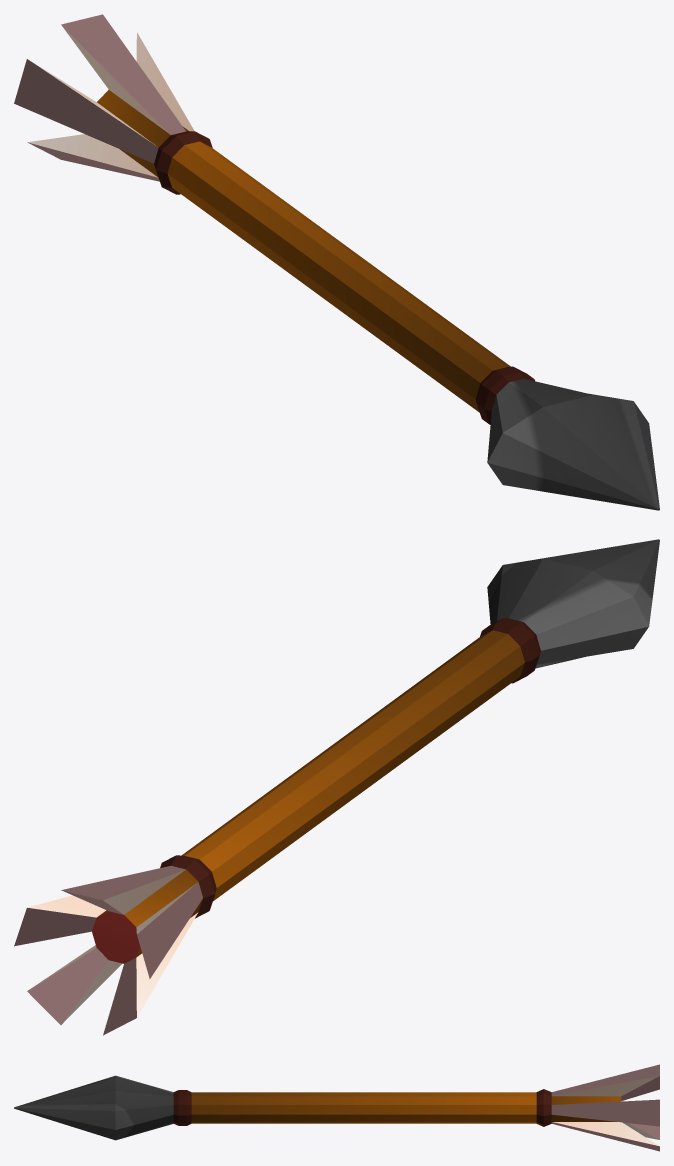
File: Arrow.glb
The picture shows the model from 3 angles, top to bottom: view 1: azimuth 30°, elevation 25°; view 2: azimuth 150°, elevation 25°; view 3: azimuth 270°, elevation 25°; orthographic projection. The views are drawn at different scales.
Parts seen in each view (by area): view 1: Cylinder; view 2: Cylinder; view 3: Cylinder.
Boxes of the visible parts, x1,y1,x2,y2 form: Cylinder: (14,14,659,510); Cylinder: (14,539,659,1035); Cylinder: (14,1064,659,1151).
Bounding box in the file's own units: 1.32 × 1.05 × 8.12.
Materials: 1 (1 with a texture image).
